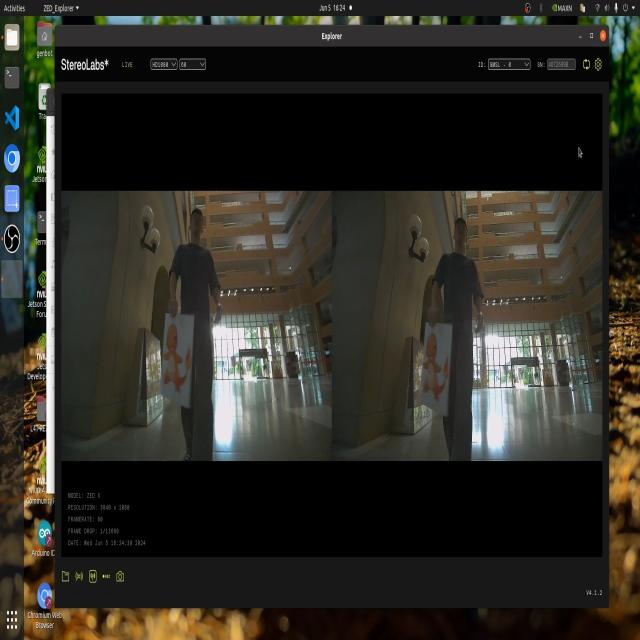red: (420, 324, 458, 400), (162, 324, 188, 394)
